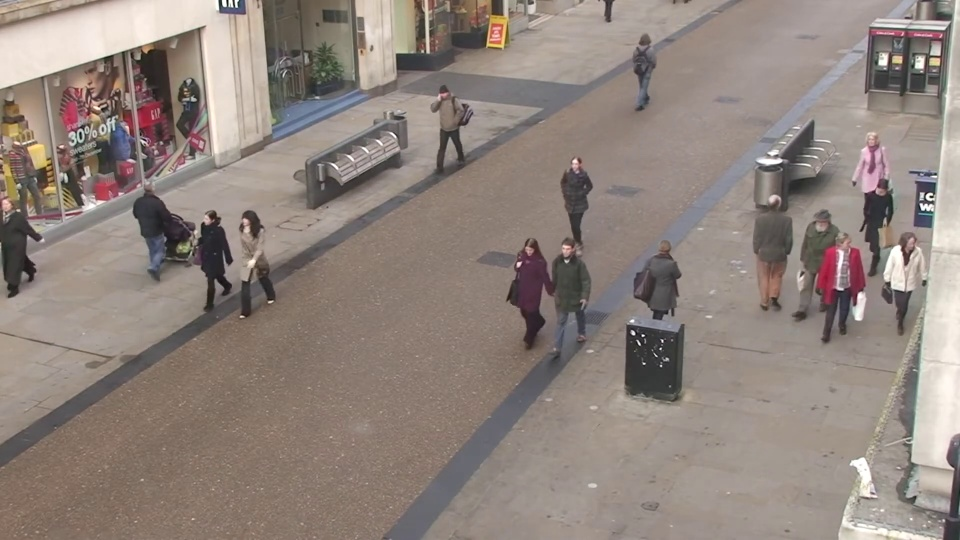pedestrian: (876, 229, 929, 357), (811, 232, 860, 359), (787, 214, 833, 337), (186, 205, 233, 322), (222, 207, 268, 325), (852, 176, 899, 289), (645, 230, 687, 356), (502, 238, 543, 367), (540, 237, 580, 366), (754, 187, 796, 302), (137, 171, 182, 278), (846, 132, 889, 234), (556, 157, 590, 265), (424, 83, 455, 169), (635, 30, 659, 102)
